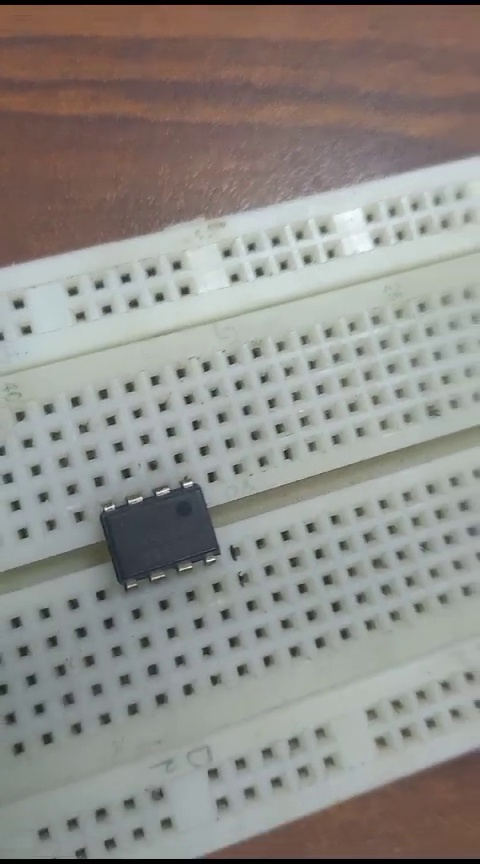IC: (80, 472, 234, 593)
